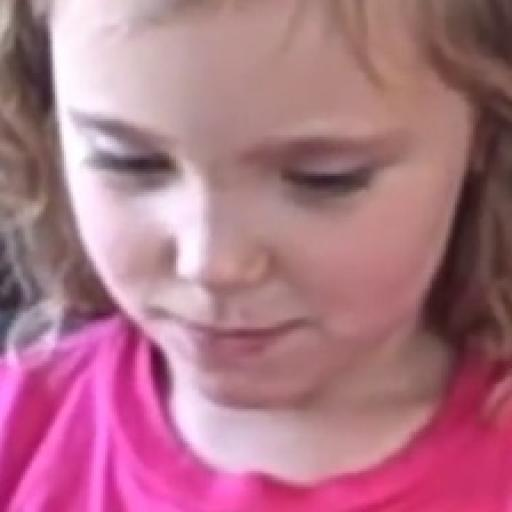Autism: (27, 0, 512, 453)
